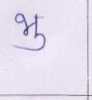u_matra: (15, 34, 48, 52)
